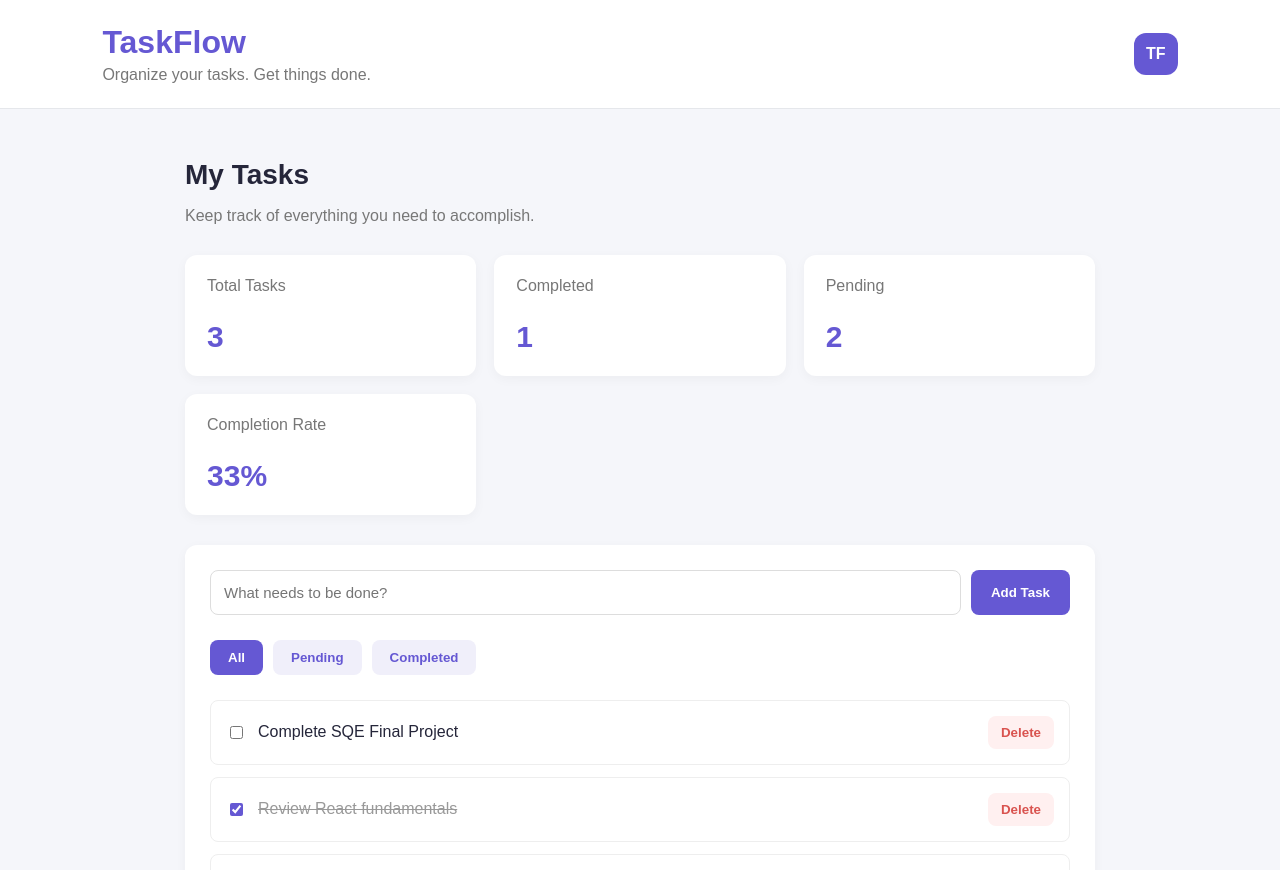
Test: TaskFlow Application › completing and deleting tasks › deletes only the selected task
Click the button "Delete" in the row of "Complete SQE Final Project" at (1021, 732), box [988,716,1054,749]
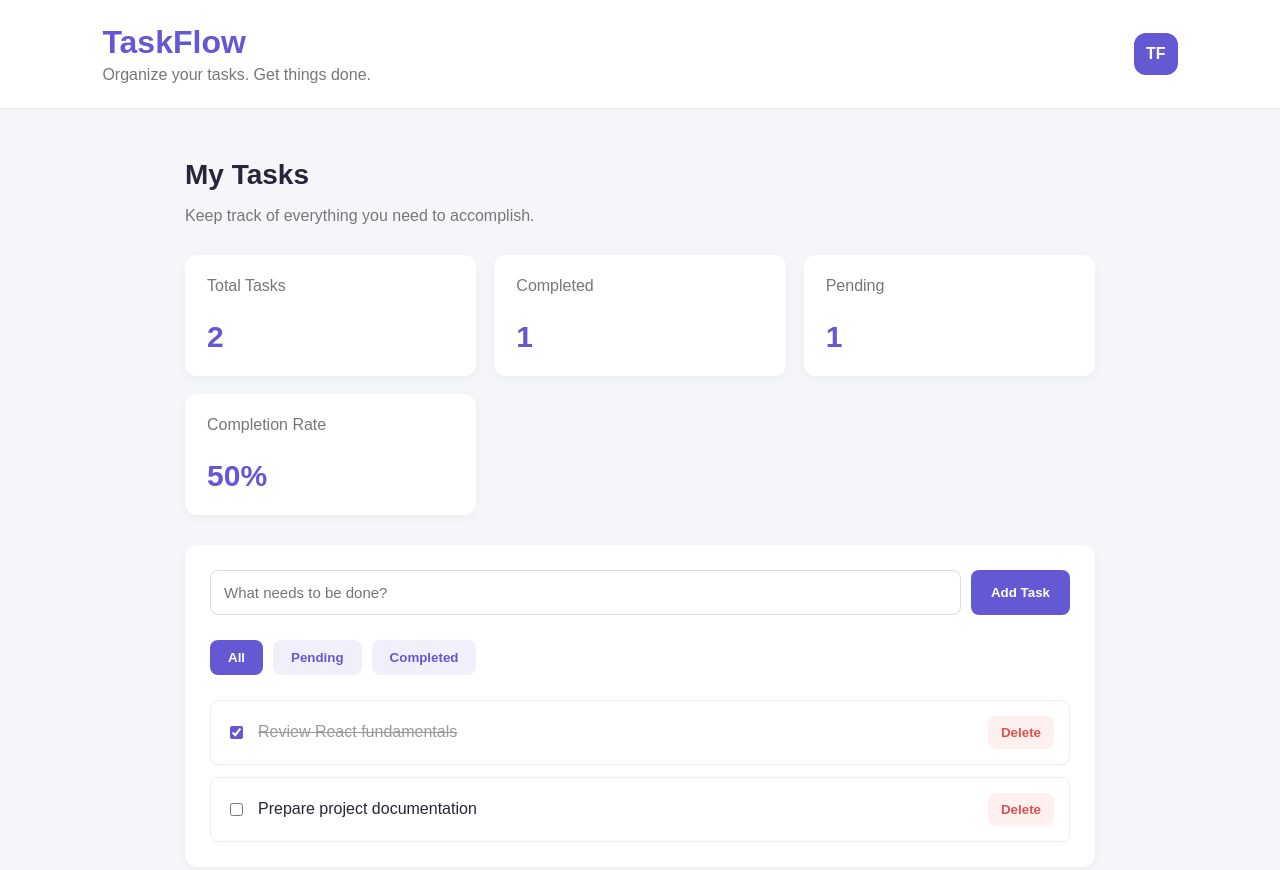
Expected: the text "Review React fundamentals" is shown, [258,723,457,741]
Expected: the text "Complete SQE Final Project" is gone
